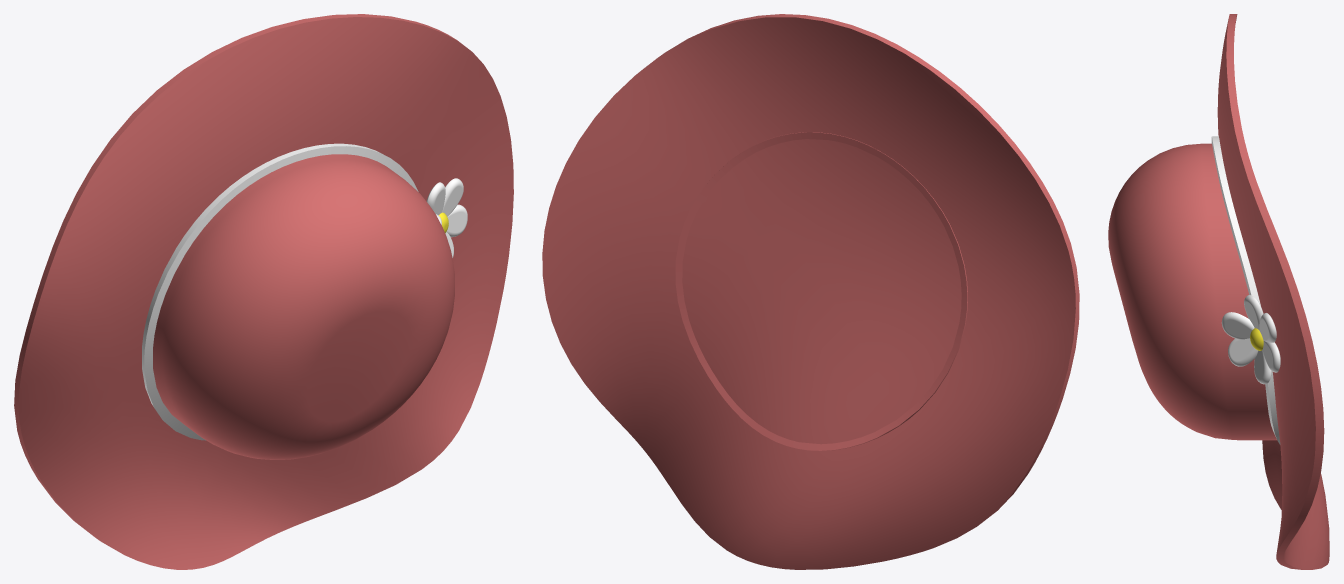
The model's file is SunHat.glb.
3 renders of one model, left to right at view 1: azimuth 30°, elevation 25°; view 2: azimuth 150°, elevation 25°; view 3: azimuth 270°, elevation 25°, orthographic. The views are drawn at different scales.
Size of the model in its own units: 19.05 by 19.04 by 7.59.
